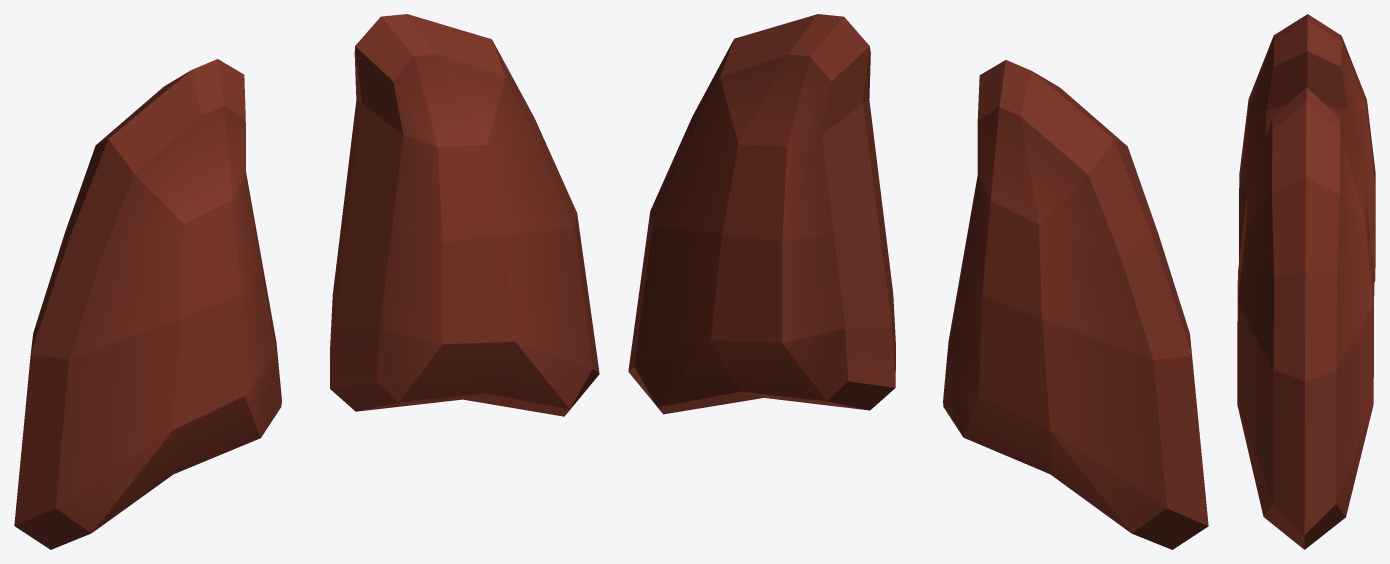
The model's file is lungs_01.fbx.
3 views of the same model, side by side, from view 1: azimuth 30°, elevation 25°; view 2: azimuth 150°, elevation 25°; view 3: azimuth 270°, elevation 25° (orthographic). The views are drawn at different scales.
Parts seen in each view (by area): view 1: lungs_01; view 2: lungs_01; view 3: lungs_01.
Boxes of the visible parts, x1=… form: lungs_01: x1=14, y1=14, x2=599, y2=549; lungs_01: x1=628, y1=14, x2=1208, y2=549; lungs_01: x1=1237, y1=14, x2=1375, y2=549.
Bounding box in the file's own units: 88.59 × 65.8 × 20.97.
